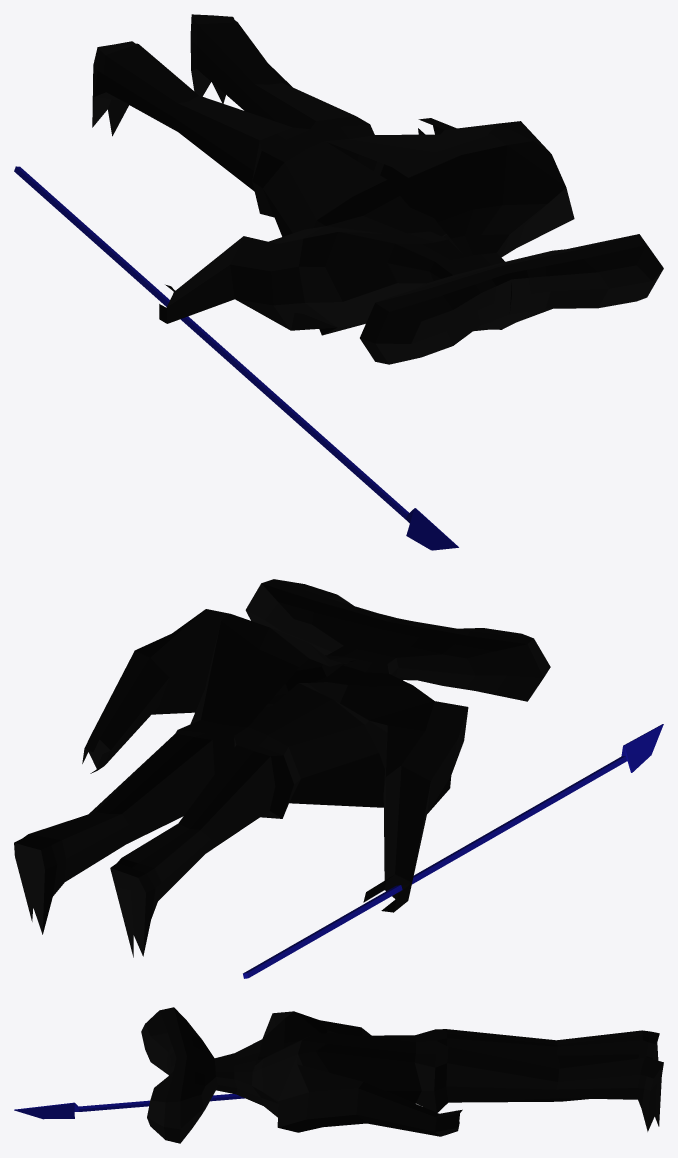
Rendered from Spearman.obj.
3 renders of one model, top to bottom at view 1: azimuth 30°, elevation 25°; view 2: azimuth 150°, elevation 25°; view 3: azimuth 270°, elevation 25°, orthographic. The views are drawn at different scales.
Visible parts, largest first — view 1: Cube; view 2: Cube; view 3: Cube.
Part boxes in pixels (x1,y1,x2,y2): Cube: [14, 14, 663, 550]; Cube: [14, 579, 663, 978]; Cube: [14, 1007, 663, 1143].
Size of the model in its own units: 0.8183 by 0.5152 by 1.94.
